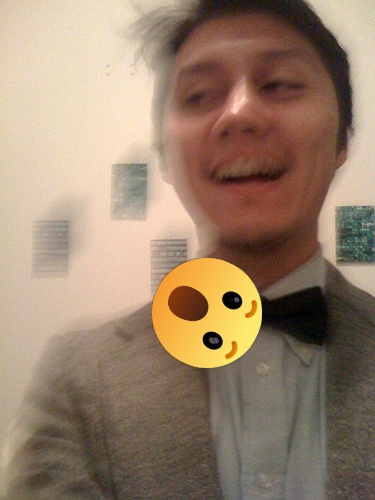wow: (152, 258, 262, 368)
